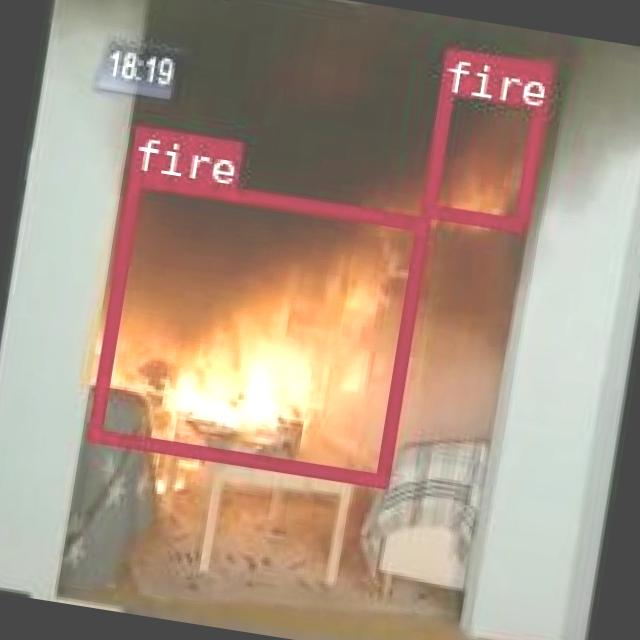fire: (86, 170, 428, 485), (420, 46, 551, 230)
